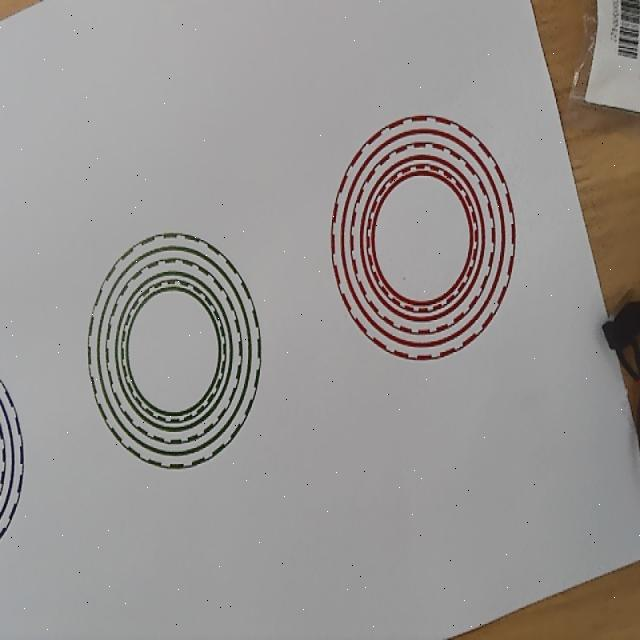g: (86, 232, 262, 469)
red-green-blue: (330, 113, 516, 361)
